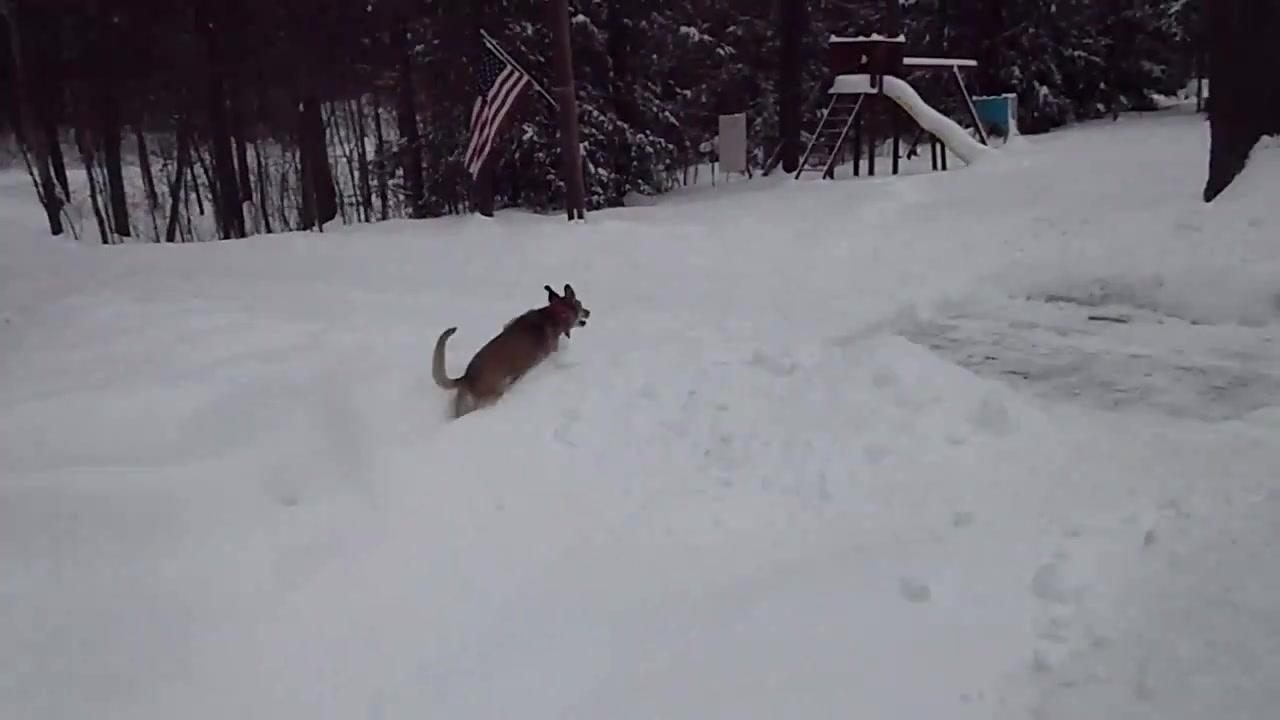dog: (431, 278, 597, 423)
